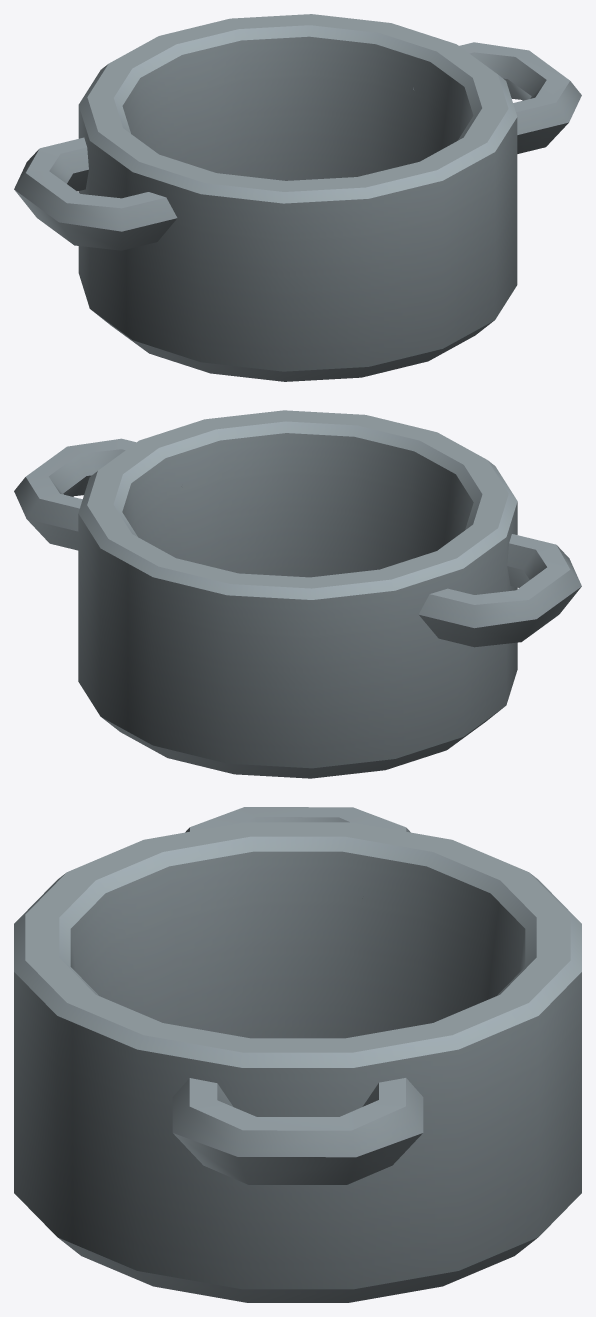
File: pot.glb
3 renders of one model, top to bottom at view 1: azimuth 30°, elevation 25°; view 2: azimuth 150°, elevation 25°; view 3: azimuth 270°, elevation 25°, orthographic. The views are drawn at different scales.
Visible parts, largest first — view 1: pot_A; view 2: pot_A; view 3: pot_A.
Boxes of the visible parts, box(x1,y1,x2,y2) form: pot_A: box(14, 14, 581, 381); pot_A: box(14, 410, 581, 778); pot_A: box(14, 807, 581, 1302).
Size of the model in its own units: 1.4 by 0.5 by 1.
1 material, 1 textured.
